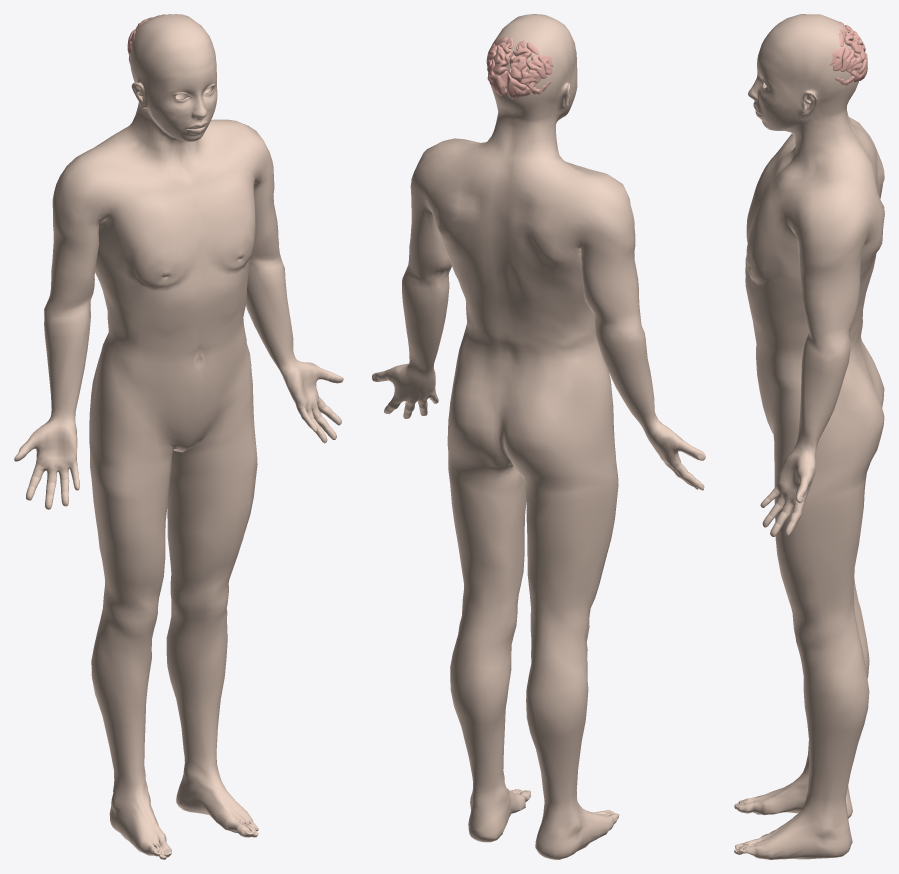
The model's file is body.glb.
3 renders of one model, left to right at view 1: azimuth 30°, elevation 25°; view 2: azimuth 150°, elevation 25°; view 3: azimuth 270°, elevation 25°, orthographic.
Parts seen in each view (by area): view 1: skin; view 2: skin, brain; view 3: skin, brain.
Part boxes in pixels (left/top/right/bottom): skin: left=14, top=14, right=343, bottom=859; skin: left=372, top=14, right=705, bottom=859; brain: left=486, top=37, right=553, bottom=98; skin: left=734, top=14, right=884, bottom=859; brain: left=829, top=21, right=867, bottom=85.
Size of the model in its own units: 0.7324 by 1.72 by 0.2866.
